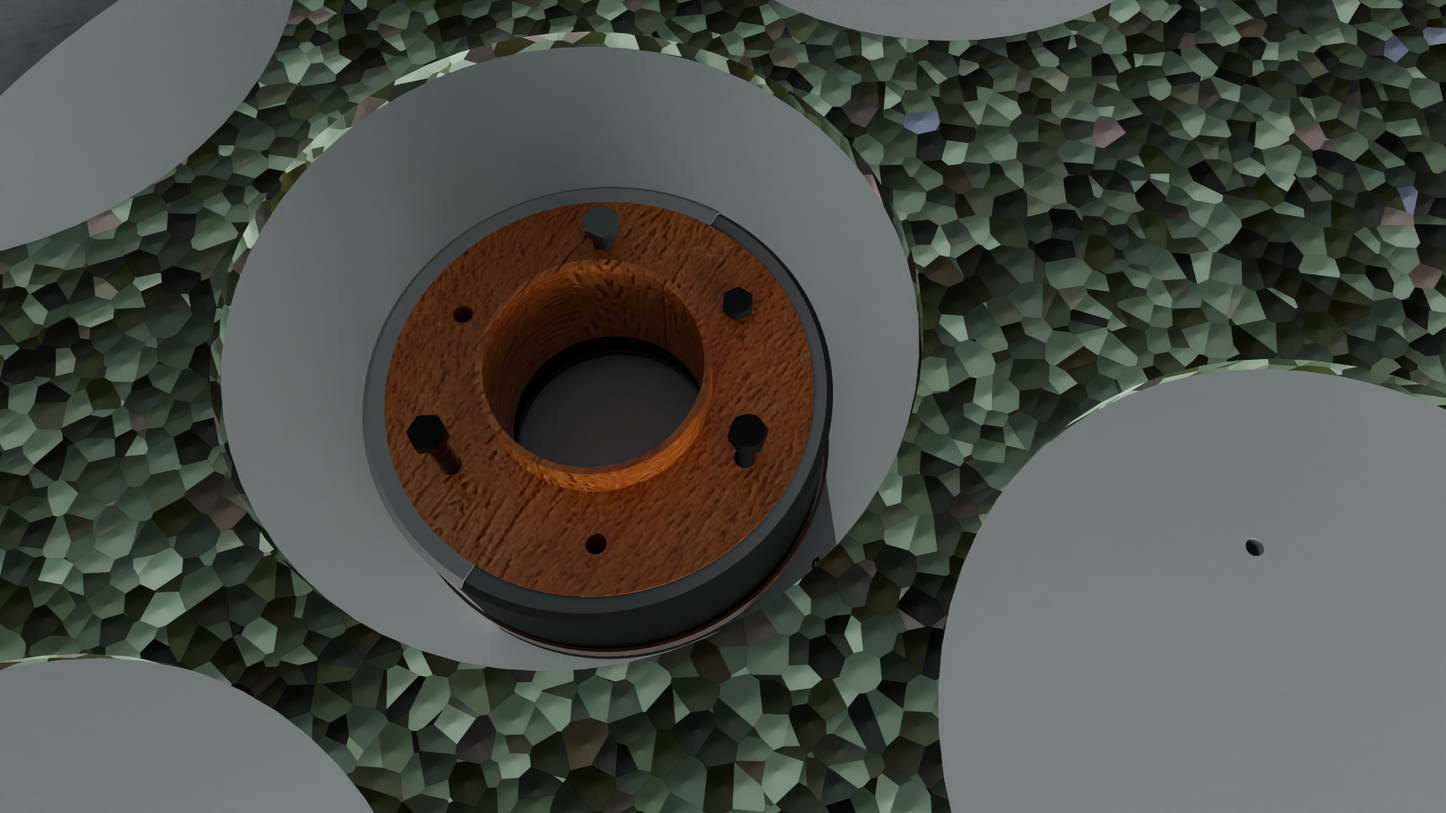bolt: (728, 414, 768, 449), (406, 415, 447, 449), (584, 205, 618, 238), (723, 287, 752, 315)
